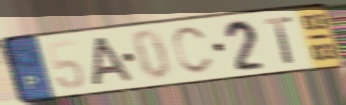0: (131, 28, 173, 83)
2: (223, 15, 273, 76)
5: (43, 37, 86, 91)
A: (90, 35, 136, 88)
C: (171, 24, 216, 77)
T: (262, 14, 296, 65)
